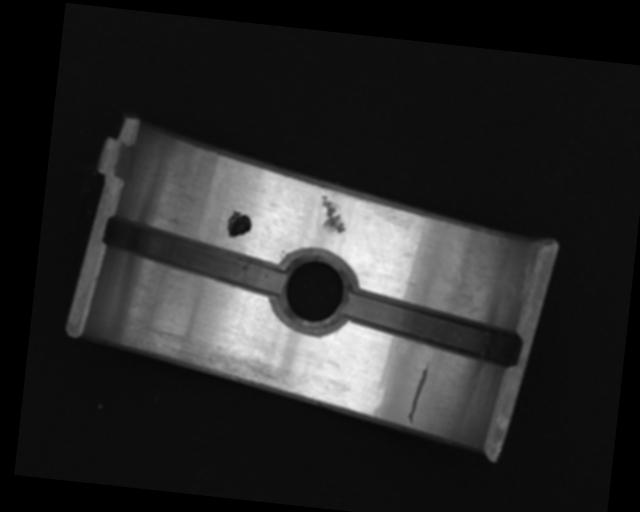blot: (225, 209, 253, 240)
bruise: (316, 193, 348, 234)
gap: (100, 216, 287, 297), (339, 289, 522, 368)
hole: (269, 248, 359, 337)
nick: (406, 357, 430, 428)
scratch: (133, 325, 306, 396)
